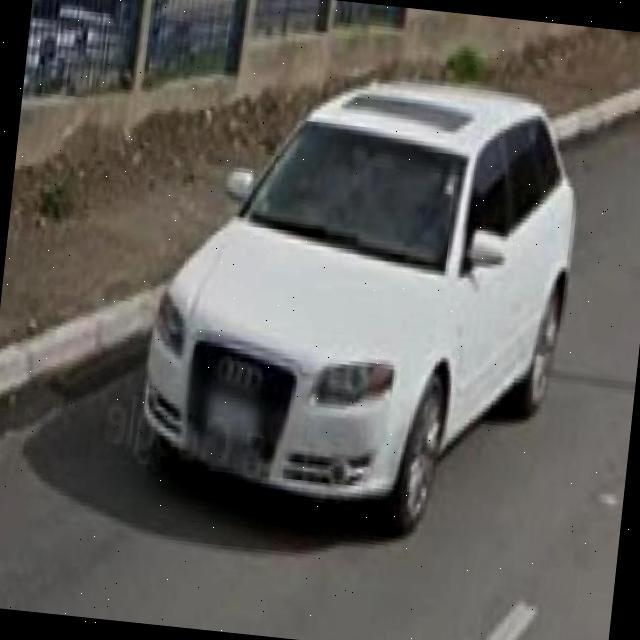car: (141, 72, 574, 539)
